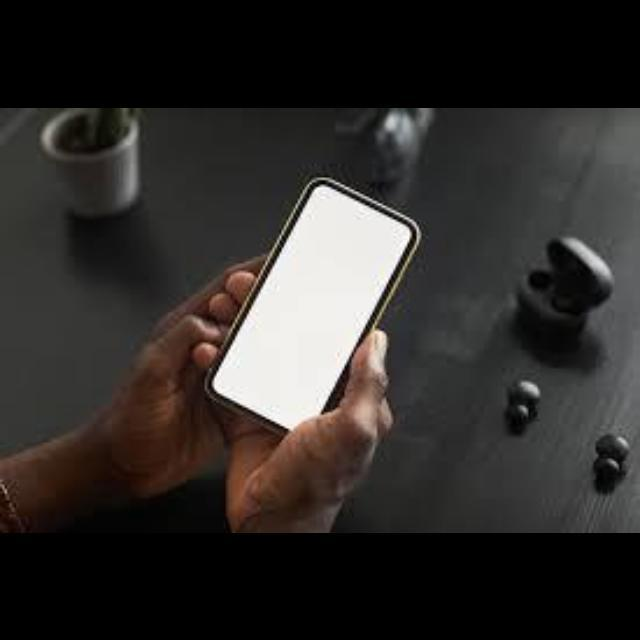PhoneUse: (205, 175, 423, 435)
